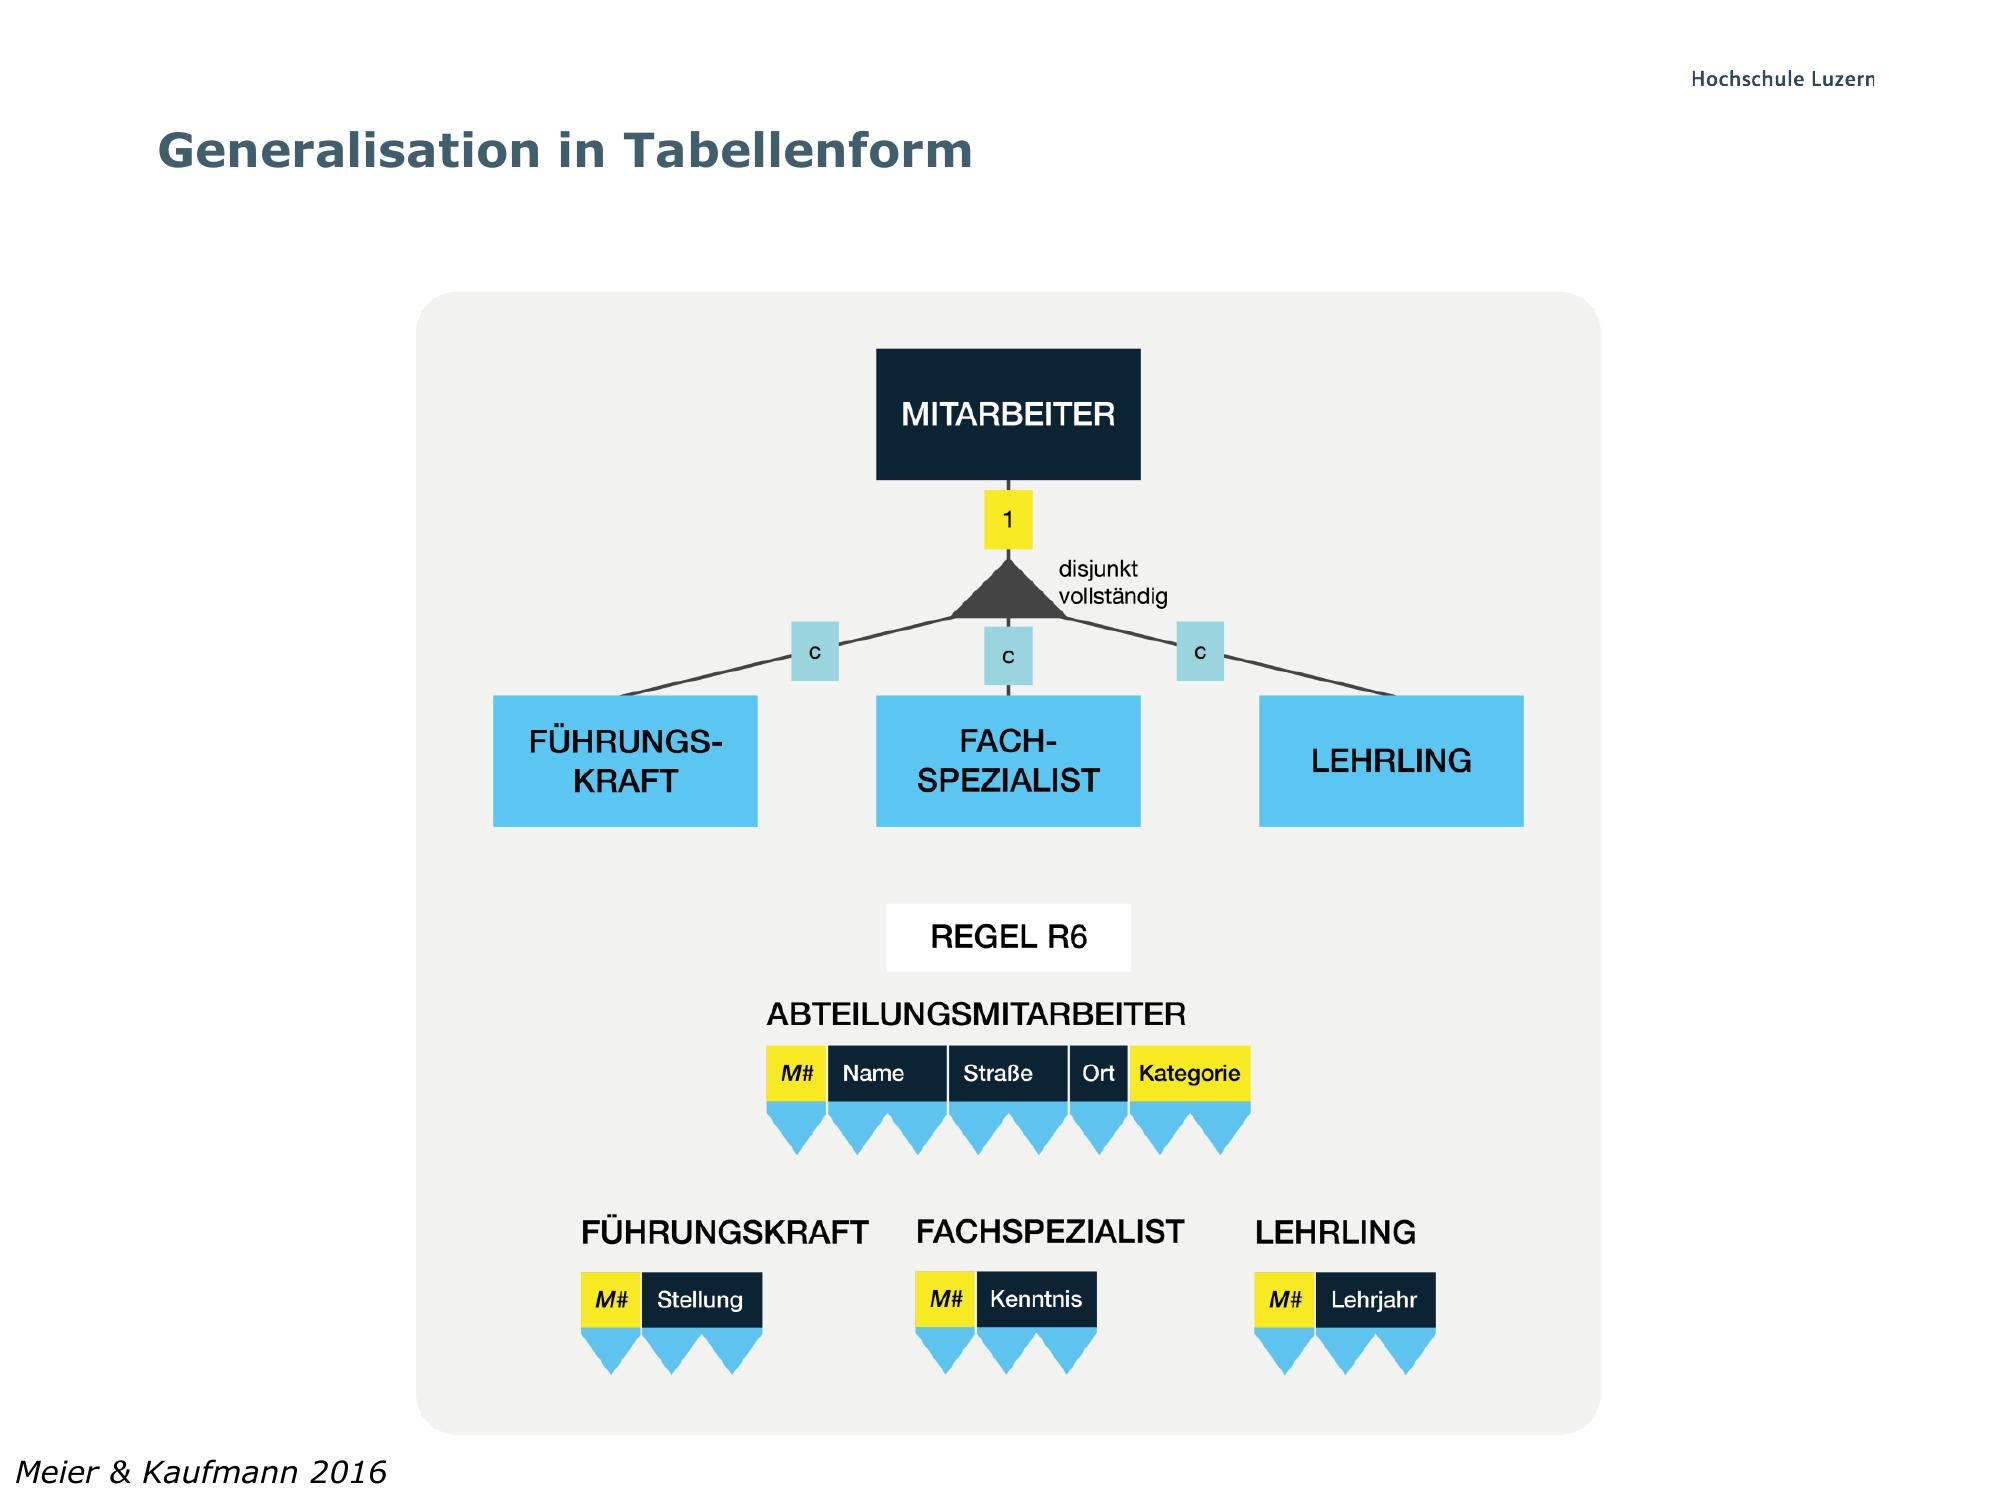Title: (139, 113, 984, 191)
